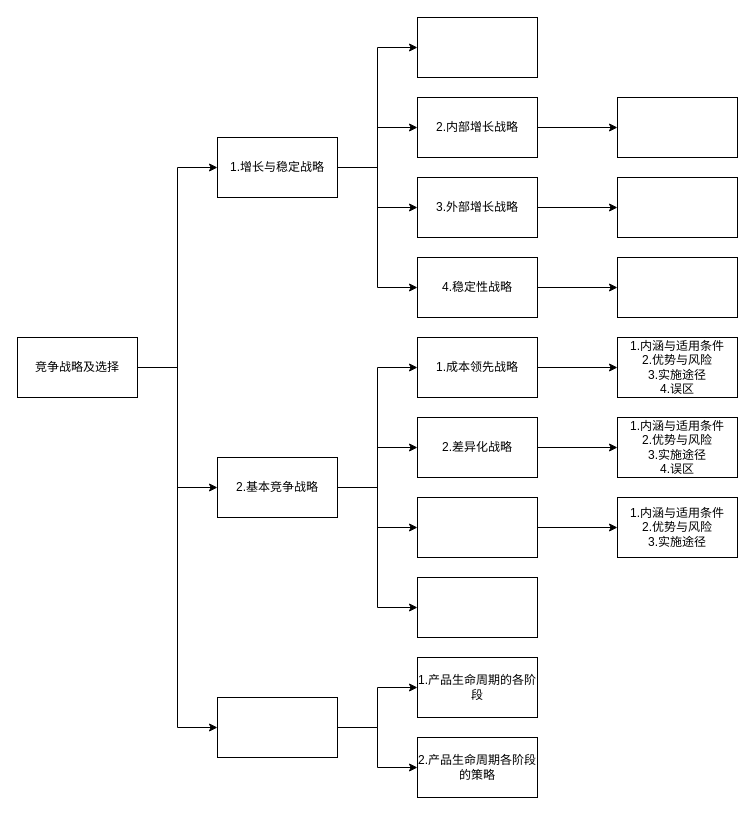
Image size: 755x815. Some labels were removed from this diagram. The centre of each missing label's shape, as x and y in pixels:
1.单一业务的增长战略和经营业务的范围: the point at 477,47
1.含义 2.类型 3.运用: the point at 677,207
1.含义 2.运用: the point at 677,287
1.类型 2.运用: the point at 677,127
3.产品生命周期对战略选择的影响: the point at 277,727
3.目标集中战略: the point at 477,527
4.三种基本竞争战略的比较: the point at 477,607
